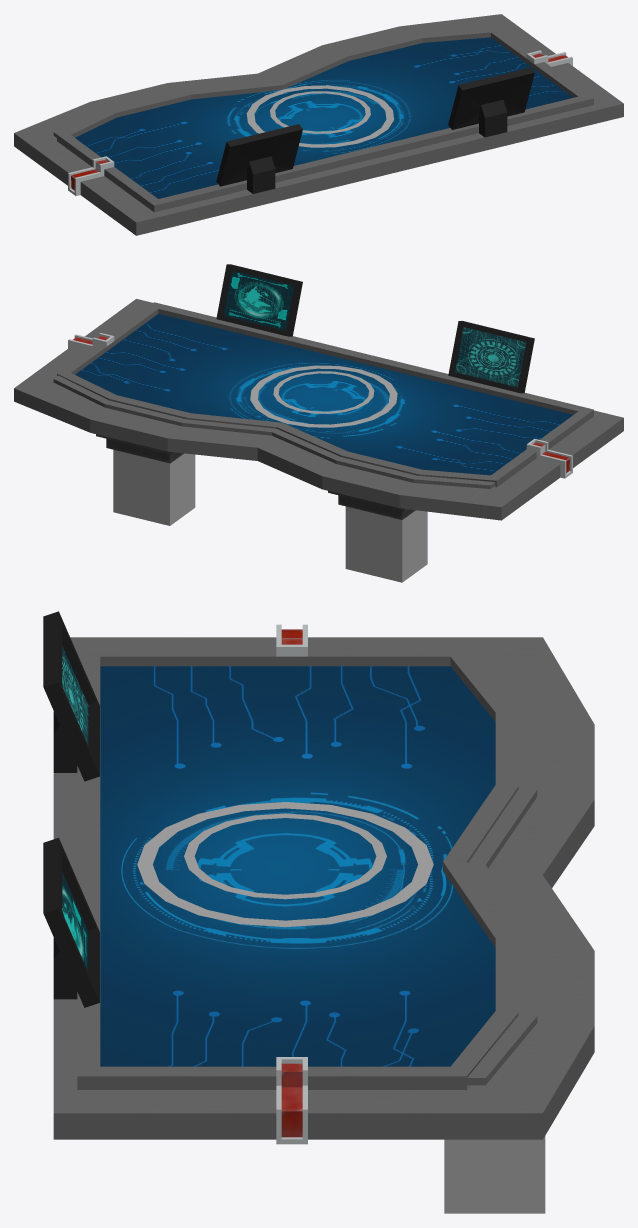
Rendered from FUT0110026.fbx.
3 renders of one model, top to bottom at view 1: azimuth 30°, elevation 25°; view 2: azimuth 150°, elevation 25°; view 3: azimuth 270°, elevation 25°, orthographic. The views are drawn at different scales.
Visible parts, largest first — view 1: smFUT0110026; view 2: smFUT0110026; view 3: smFUT0110026.
Boxes of the visible parts, box(x1,y1,x2,y2) form: smFUT0110026: box(14, 14, 623, 235); smFUT0110026: box(14, 264, 623, 582); smFUT0110026: box(43, 611, 594, 1213).
Bounding box in the file's own units: 350 × 105 × 168.
3 materials, 1 textured.
